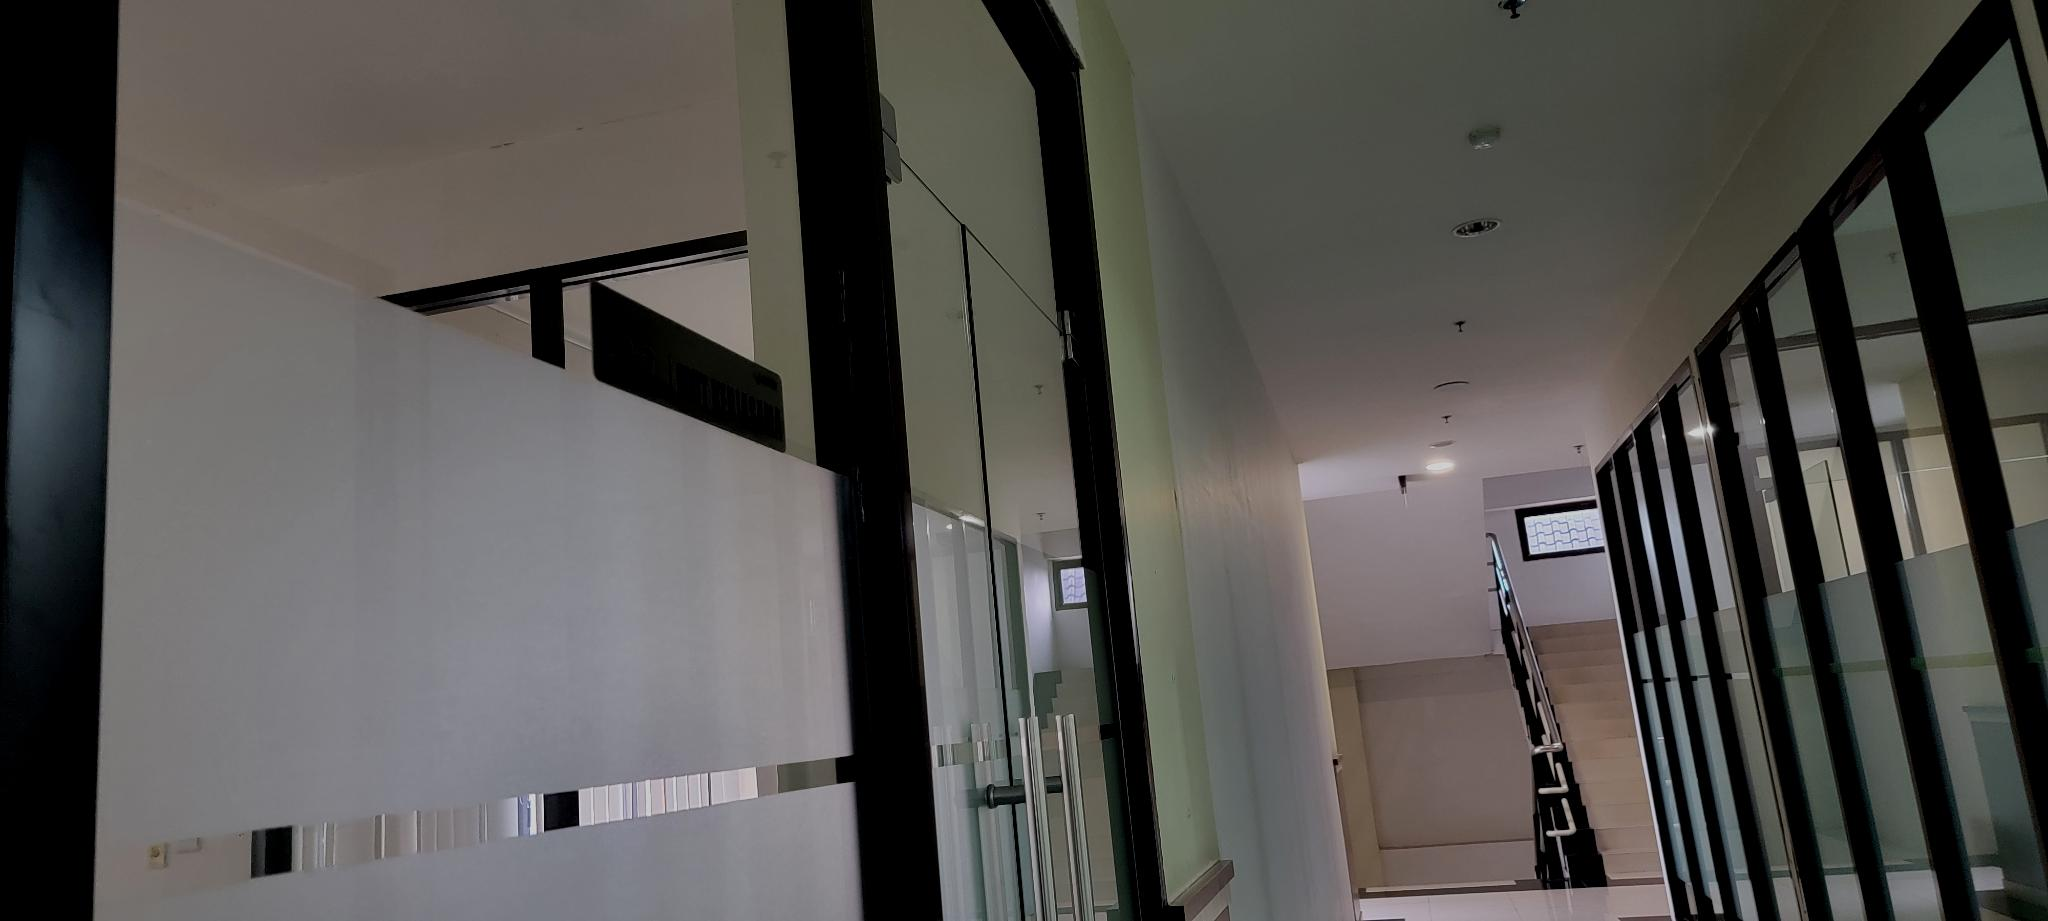plate: (589, 278, 786, 456)
